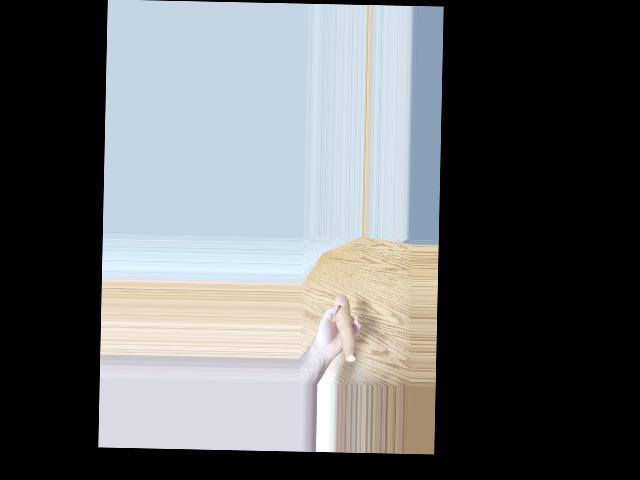sweet_potato: (335, 291, 358, 367)
